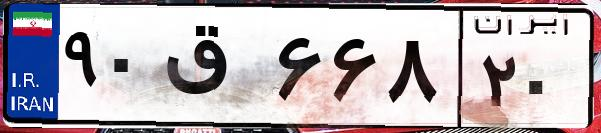0: (525, 38, 570, 115), (110, 28, 158, 98)
2: (475, 38, 525, 113)
6: (270, 28, 330, 110), (330, 28, 385, 110)
8: (385, 28, 445, 110)
9: (57, 26, 110, 100)
ق: (158, 20, 270, 120)
